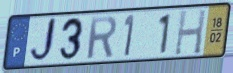1: (157, 12, 174, 56), (122, 13, 136, 58)
3: (58, 15, 85, 63)
H: (173, 8, 208, 57)
J: (28, 16, 59, 65)
R: (85, 15, 118, 61)
